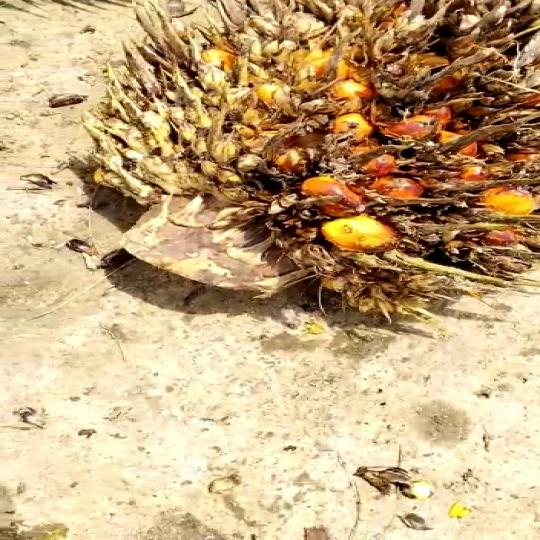terlalu masak: (87, 0, 540, 339)
